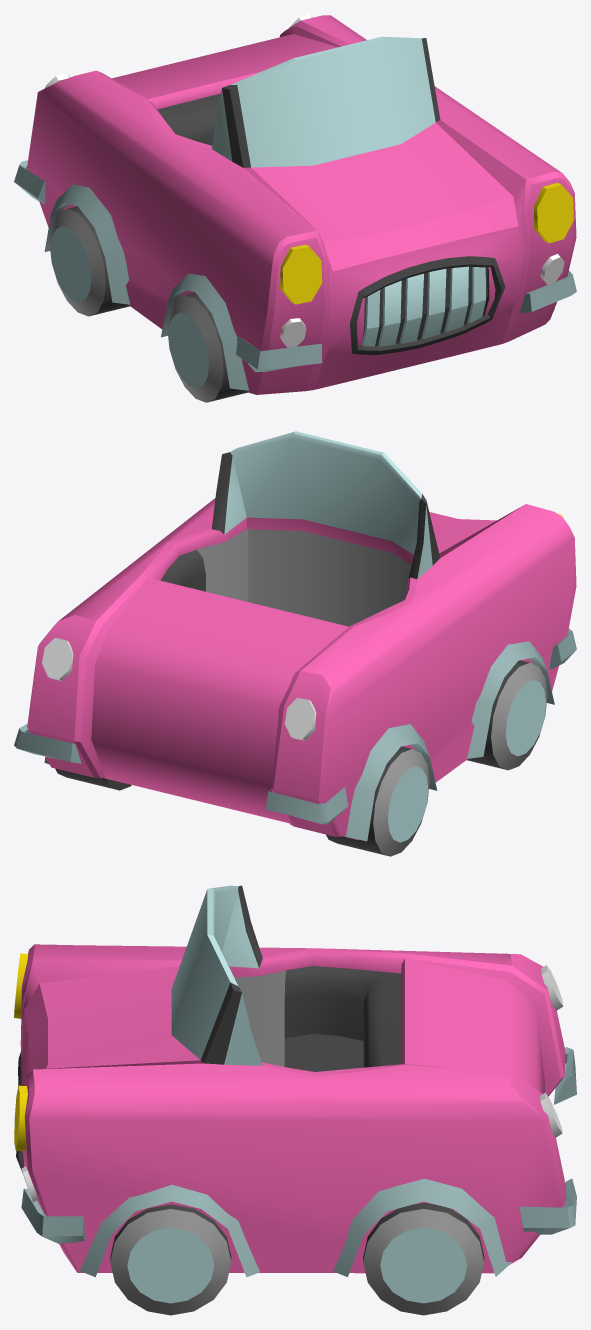
The model's file is Cart_9.fbx.
3 views of the same model, one above another, from view 1: azimuth 30°, elevation 25°; view 2: azimuth 150°, elevation 25°; view 3: azimuth 270°, elevation 25° (orthographic). The views are drawn at different scales.
Parts seen in each view (by area): view 1: Cube.004; view 2: Cube.004; view 3: Cube.004.
Part boxes in pixels (left/top/right/bottom): Cube.004: left=14, top=14, right=576, bottom=402; Cube.004: left=14, top=431, right=576, bottom=856; Cube.004: left=14, top=885, right=576, bottom=1315.
Bounding box in the file's own units: 201 × 169 × 271.
